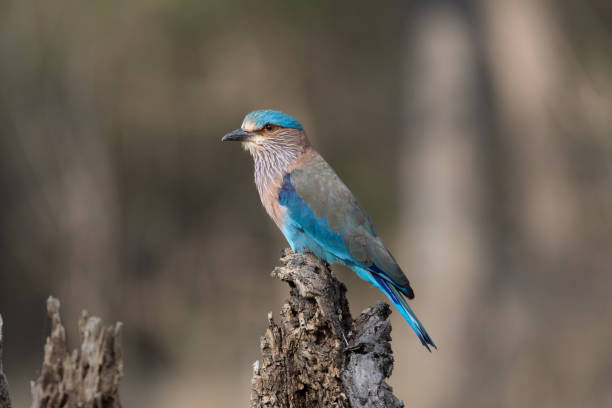Bird: (216, 108, 435, 352)
